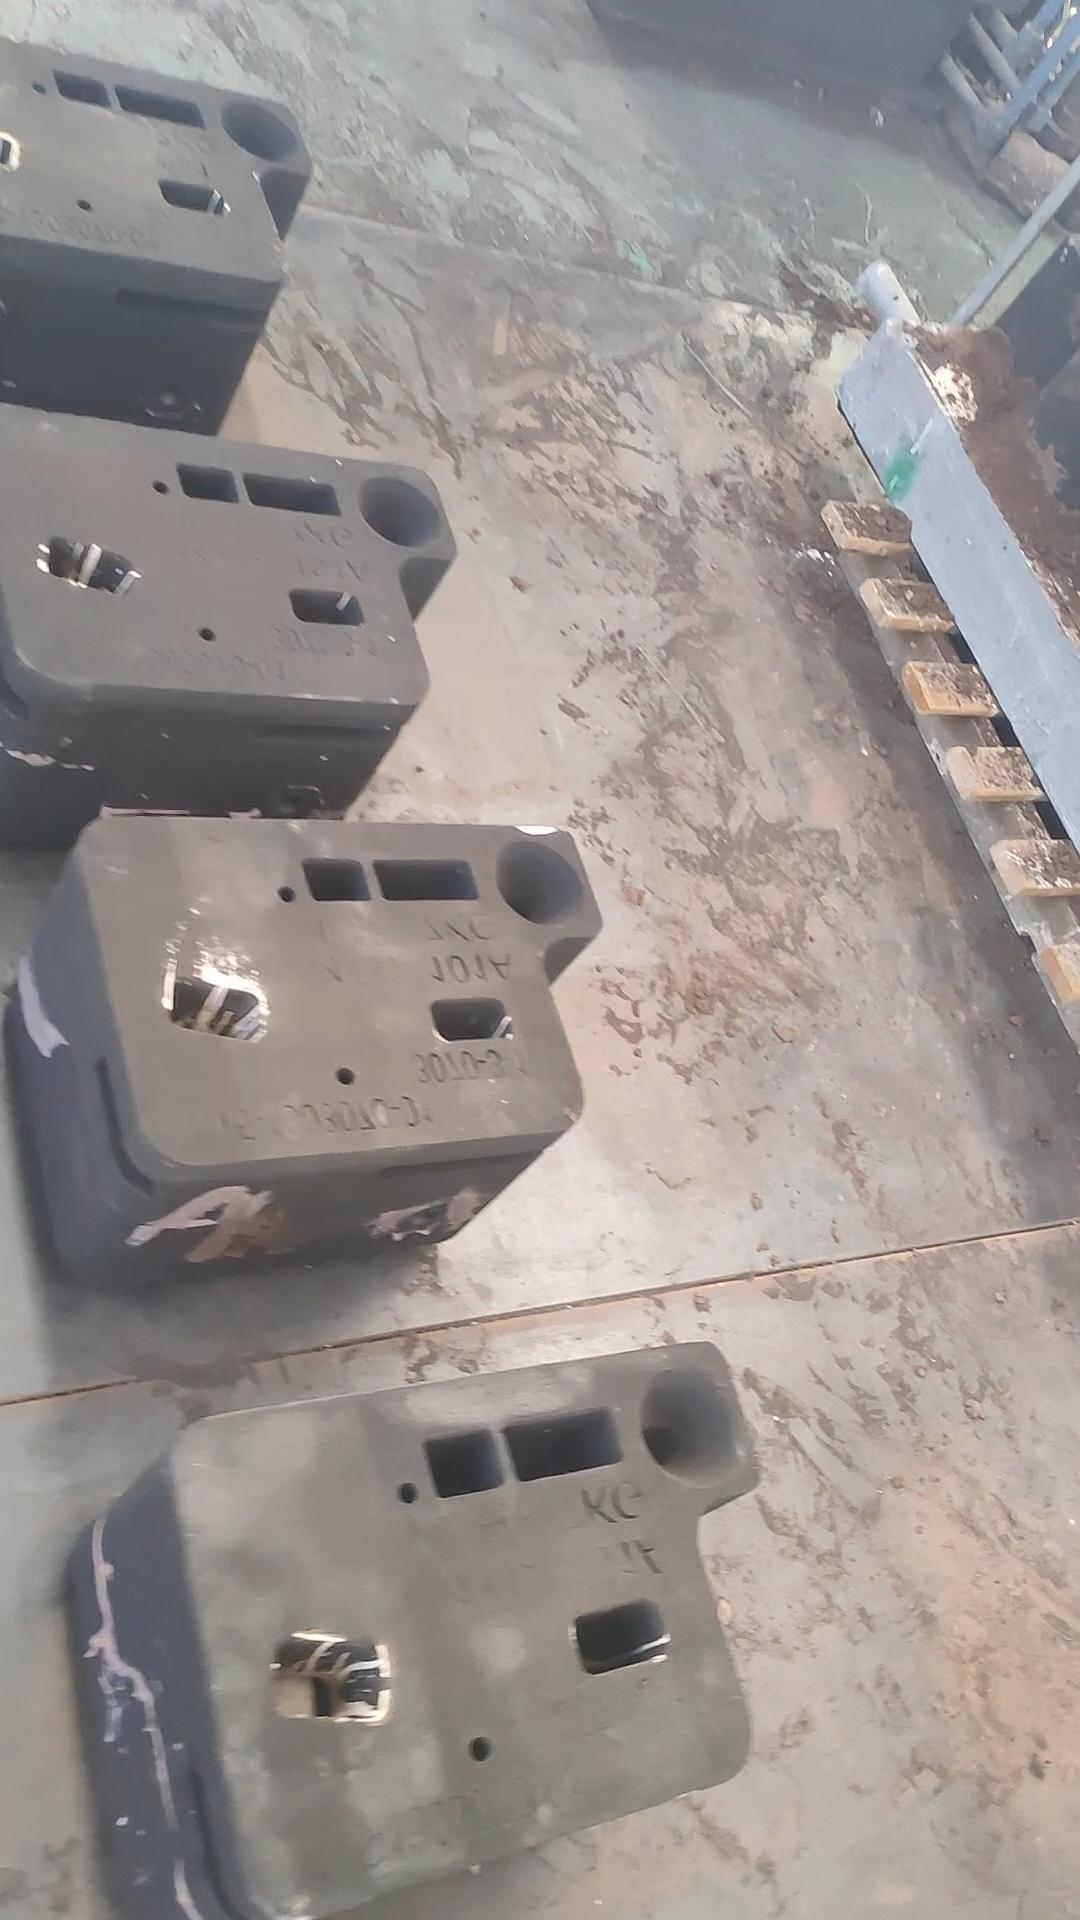pouring hole: (640, 1362, 738, 1486), (493, 840, 585, 924), (356, 476, 443, 547), (220, 102, 301, 164)
